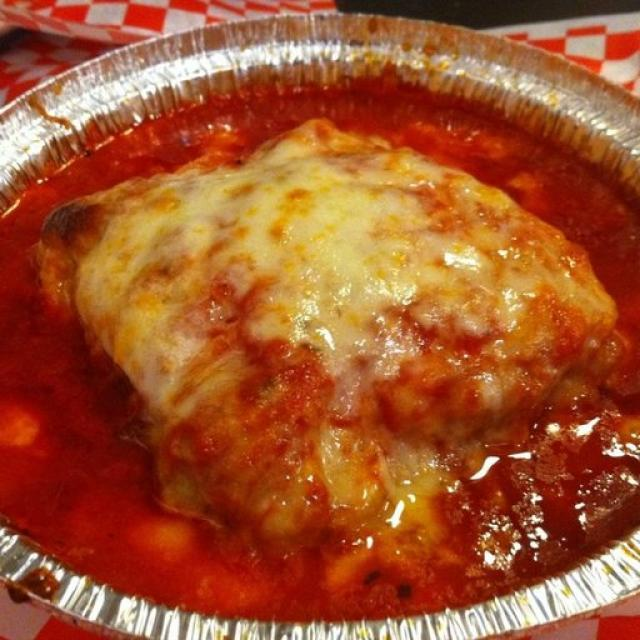Lasagna: (24, 115, 604, 547)
